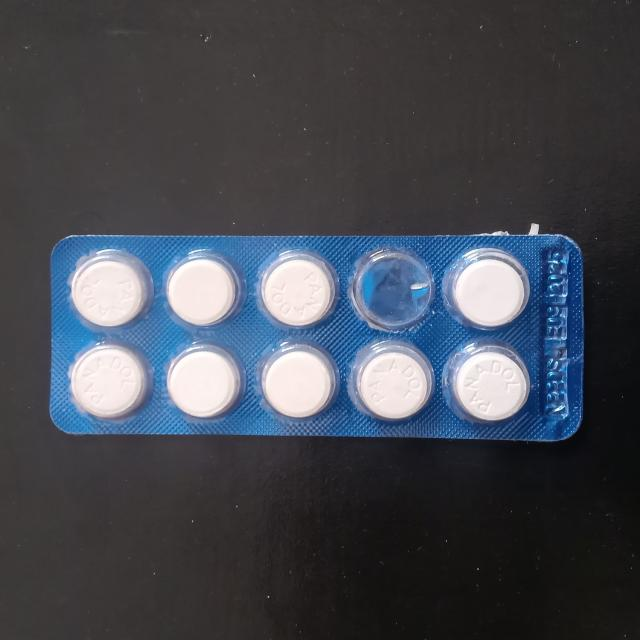defect: (345, 245, 443, 335)
